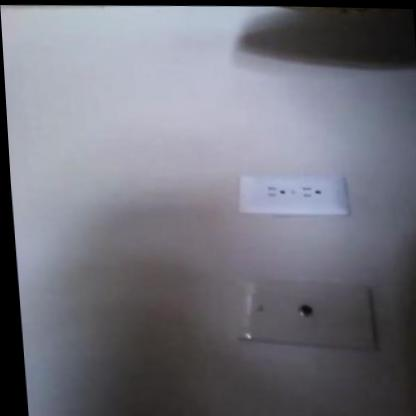OUTLET: (234, 170, 349, 214)
